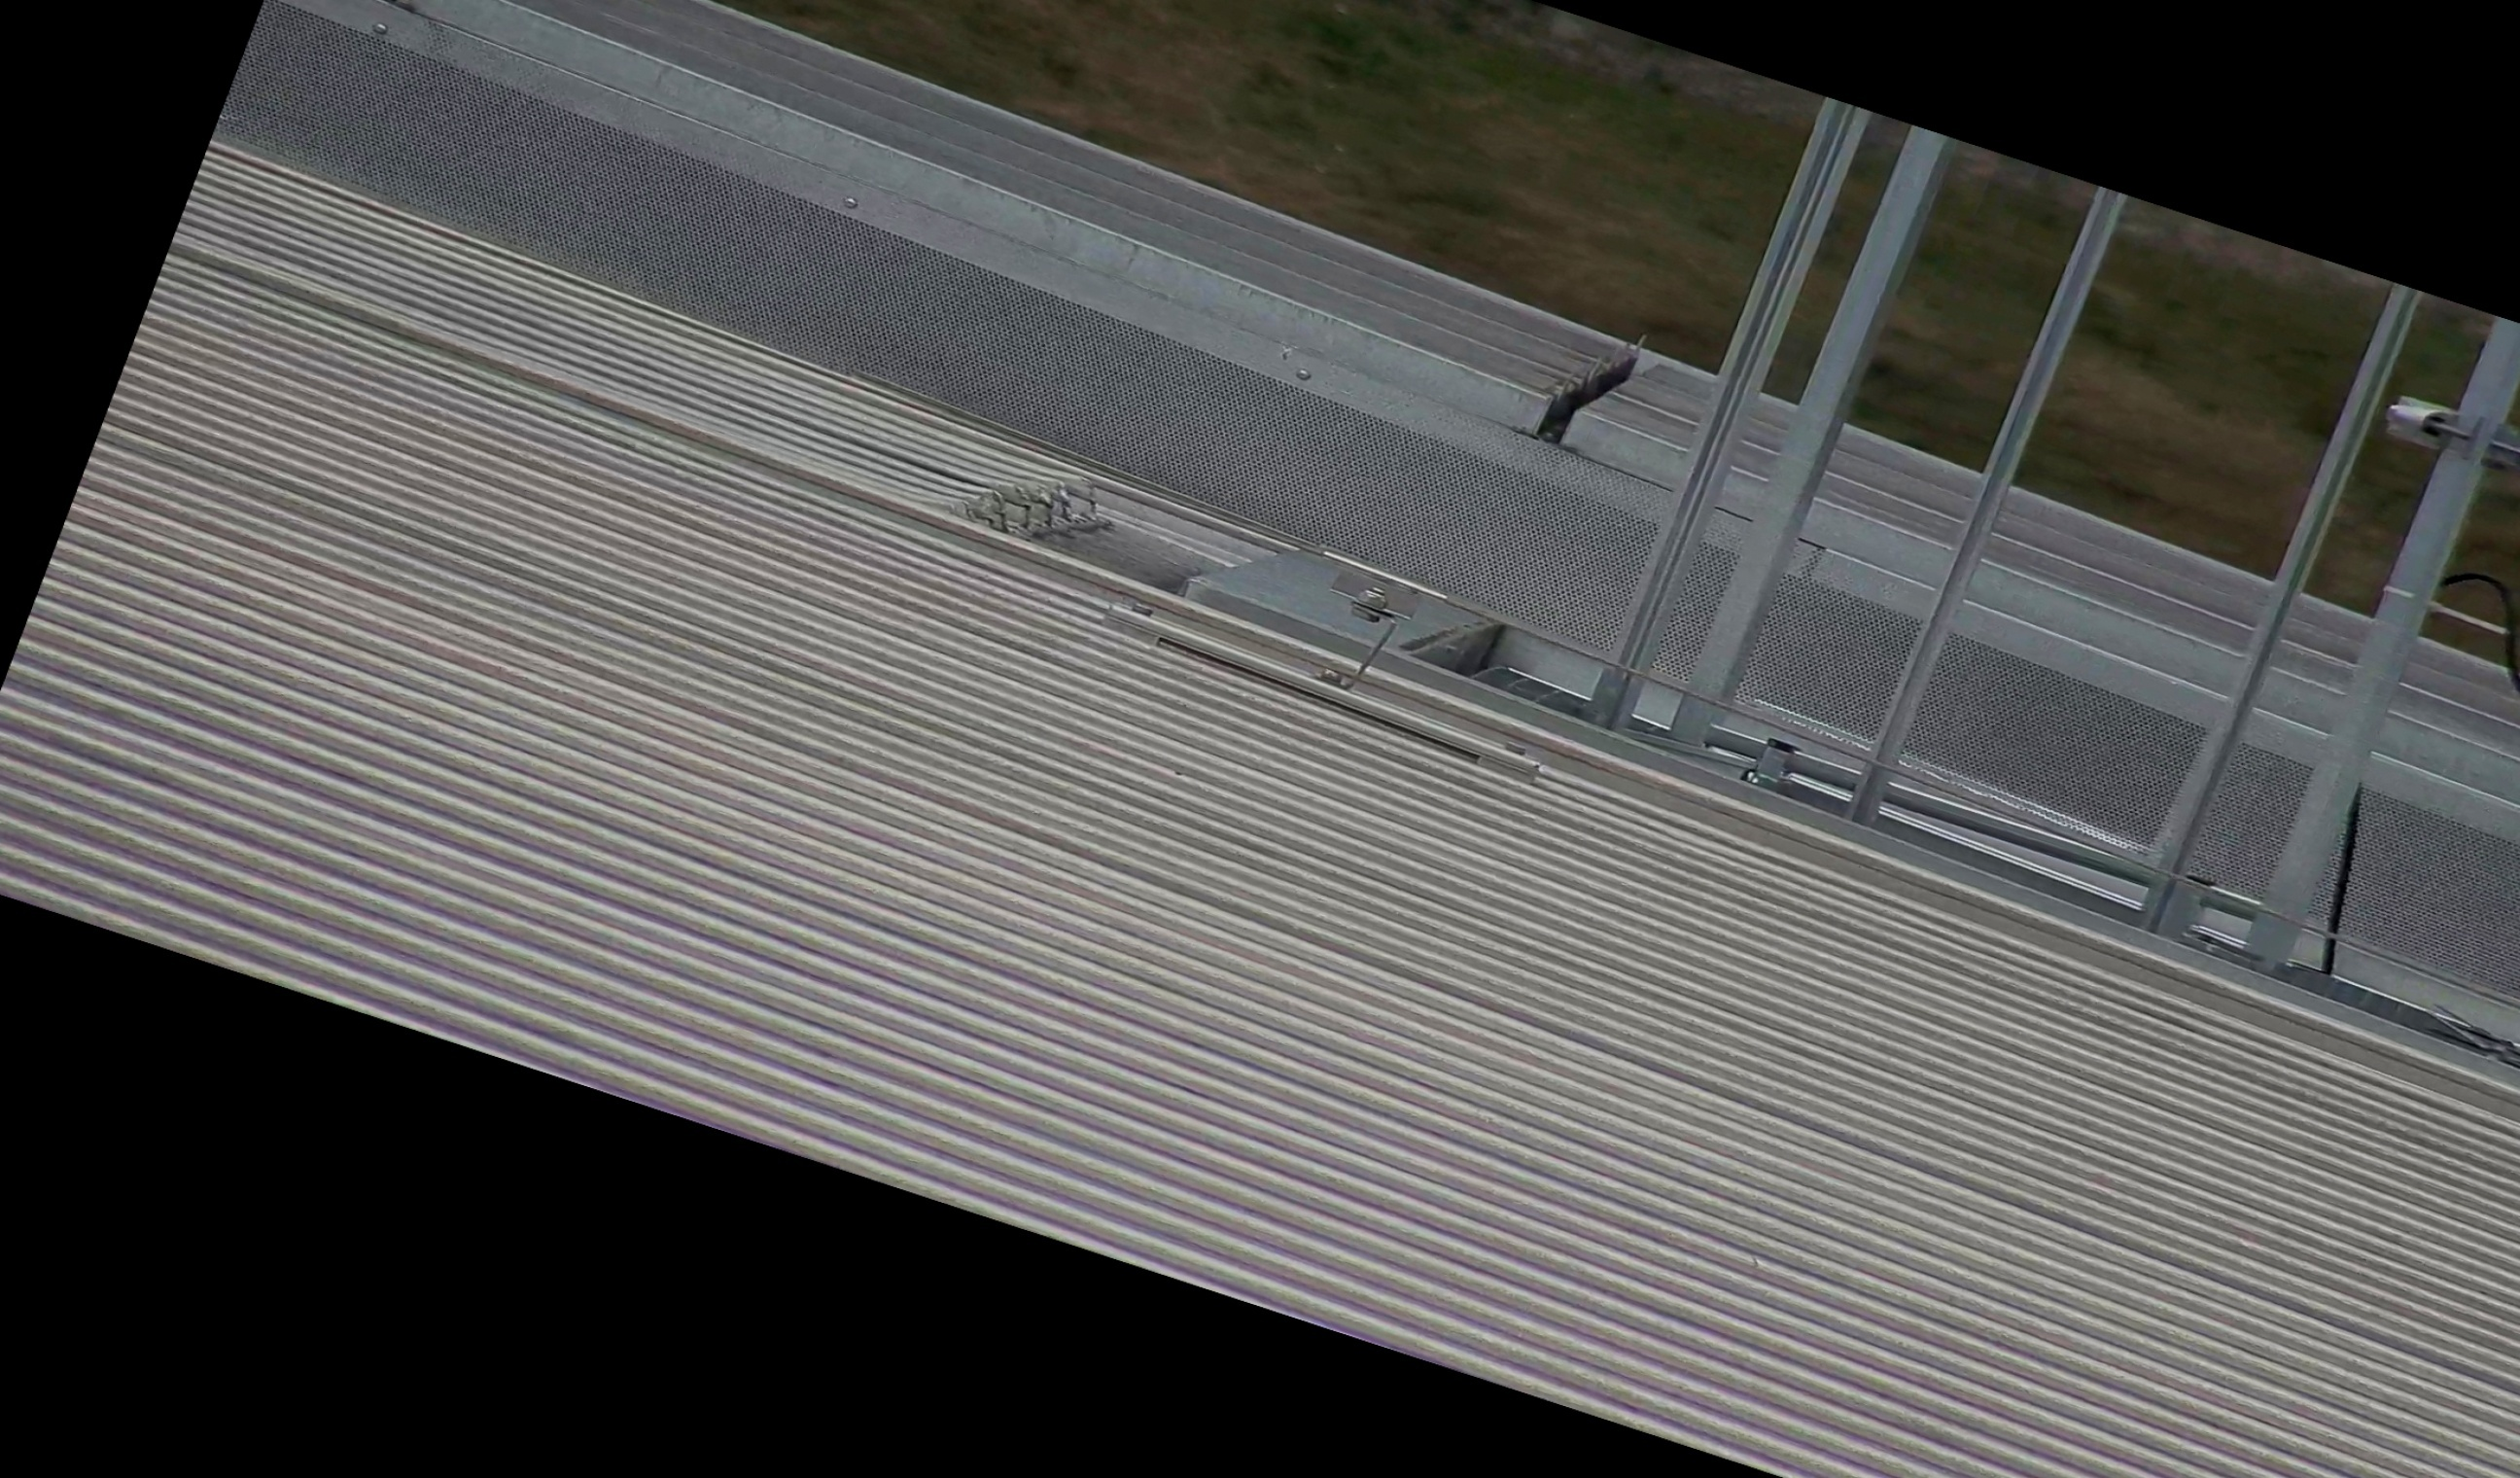Other: (1504, 301, 1669, 468)
